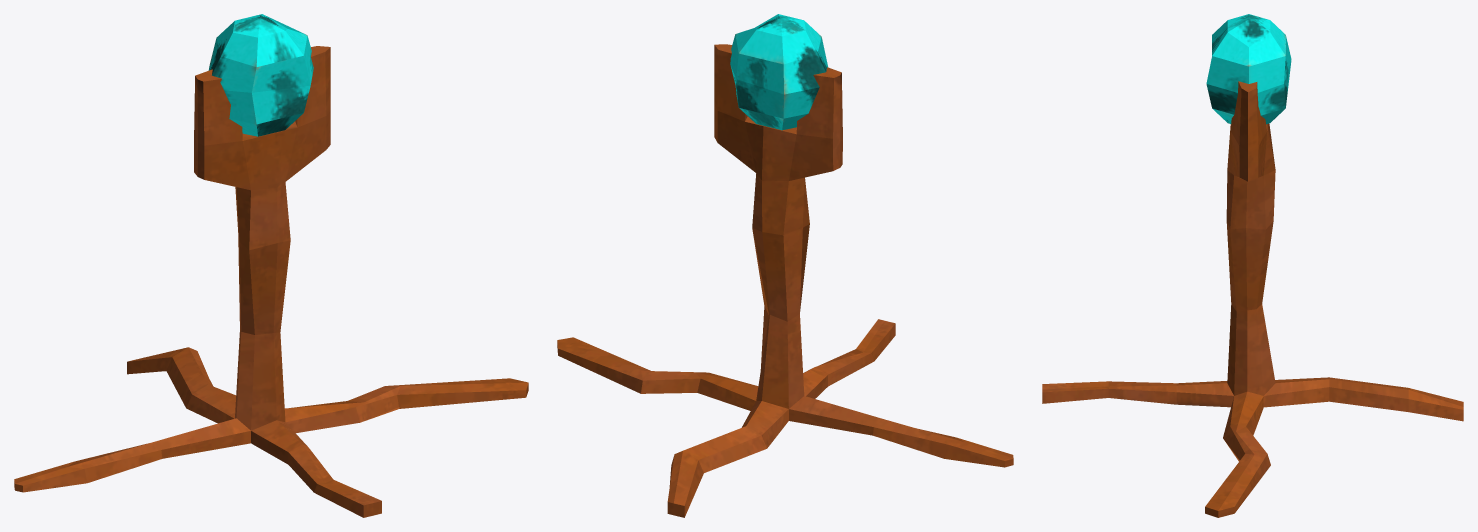
The model's file is ballon_plant_final.fbx.
3 views of the same model, side by side, from view 1: azimuth 30°, elevation 25°; view 2: azimuth 150°, elevation 25°; view 3: azimuth 270°, elevation 25° (orthographic). The views are drawn at different scales.
Parts seen in each view (by area): view 1: polySurface2, polySurface1; view 2: polySurface2, polySurface1; view 3: polySurface2, polySurface1.
Part boxes in pixels (x1,y1,x2,y2): polySurface2: (14, 46, 528, 517); polySurface1: (208, 14, 313, 136); polySurface2: (557, 44, 1013, 517); polySurface1: (730, 14, 827, 130); polySurface2: (1042, 81, 1463, 517); polySurface1: (1206, 14, 1291, 124).
Size of the model in its own units: 9.1 by 7.65 by 7.28.
2 materials, 2 textured.
